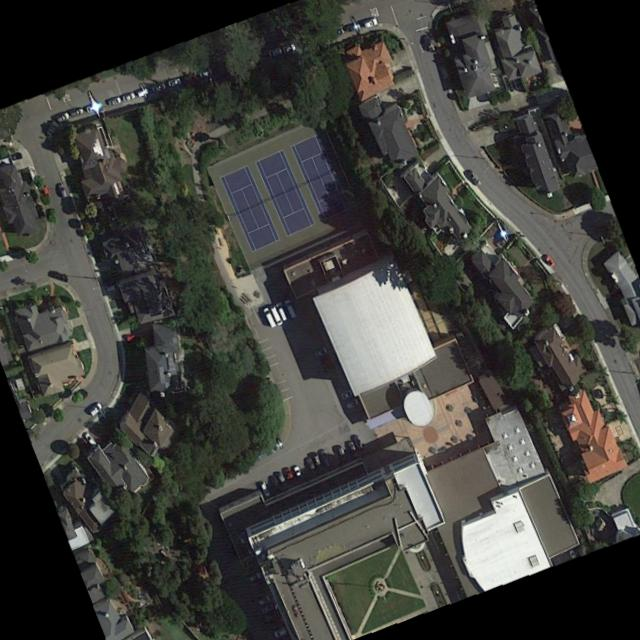small-vehicle: (259, 478, 272, 500), (466, 166, 480, 186), (284, 466, 297, 487), (83, 428, 97, 447), (270, 303, 282, 324), (422, 33, 435, 52), (275, 470, 287, 490), (311, 452, 324, 470), (263, 306, 275, 325), (55, 180, 67, 199), (293, 464, 305, 483), (320, 449, 332, 467), (347, 439, 359, 457), (52, 269, 68, 282), (495, 232, 508, 248), (269, 435, 282, 451), (276, 302, 288, 319), (327, 24, 344, 36), (304, 456, 316, 473), (270, 472, 280, 492), (284, 298, 295, 316), (337, 443, 348, 461), (89, 400, 102, 415), (54, 110, 70, 122), (543, 251, 555, 267), (361, 14, 376, 26), (282, 40, 296, 52), (344, 20, 360, 30), (40, 181, 49, 198), (353, 433, 362, 450), (166, 75, 181, 85), (343, 397, 358, 407), (106, 94, 120, 104), (68, 104, 82, 114), (268, 44, 282, 54), (121, 90, 136, 99), (85, 101, 100, 110), (314, 345, 326, 356), (494, 227, 506, 238), (341, 387, 352, 398), (152, 81, 165, 90), (9, 149, 20, 158), (198, 69, 209, 77), (136, 86, 147, 94)
